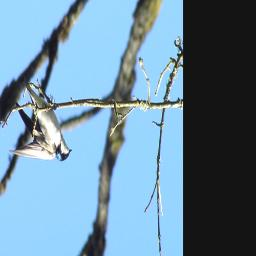Swallow: (8, 77, 73, 164)
